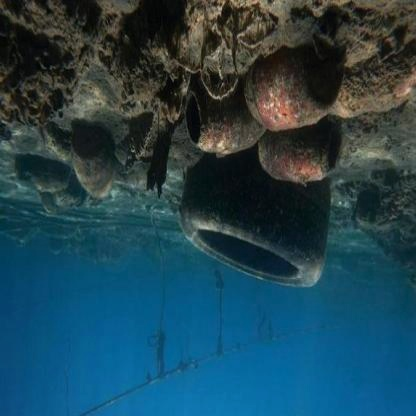metal: (241, 48, 339, 129), (52, 114, 122, 209), (188, 75, 268, 155), (256, 126, 347, 190)
net: (46, 312, 331, 416)
tire: (176, 151, 333, 293)
